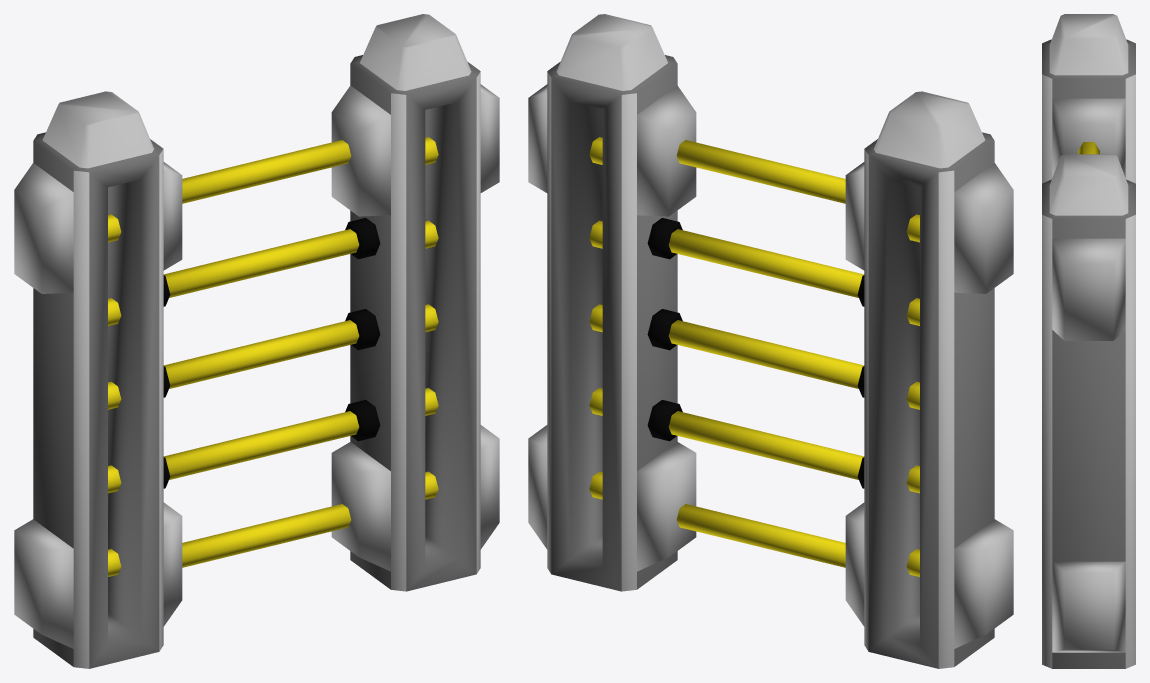
Rendered from LastWall-1.fbx.
The picture shows the model from 3 angles, left to right: view 1: azimuth 30°, elevation 25°; view 2: azimuth 150°, elevation 25°; view 3: azimuth 270°, elevation 25°; orthographic projection. The views are drawn at different scales.
Visible parts, largest first — view 1: Cube; view 2: Cube; view 3: Cube.
Part boxes in pixels (left/top/right/bottom): Cube: left=14, top=14, right=499, bottom=668; Cube: left=528, top=14, right=1013, bottom=668; Cube: left=1042, top=14, right=1135, bottom=668.
Size of the model in its own units: 1.06 by 1.18 by 0.2083.
